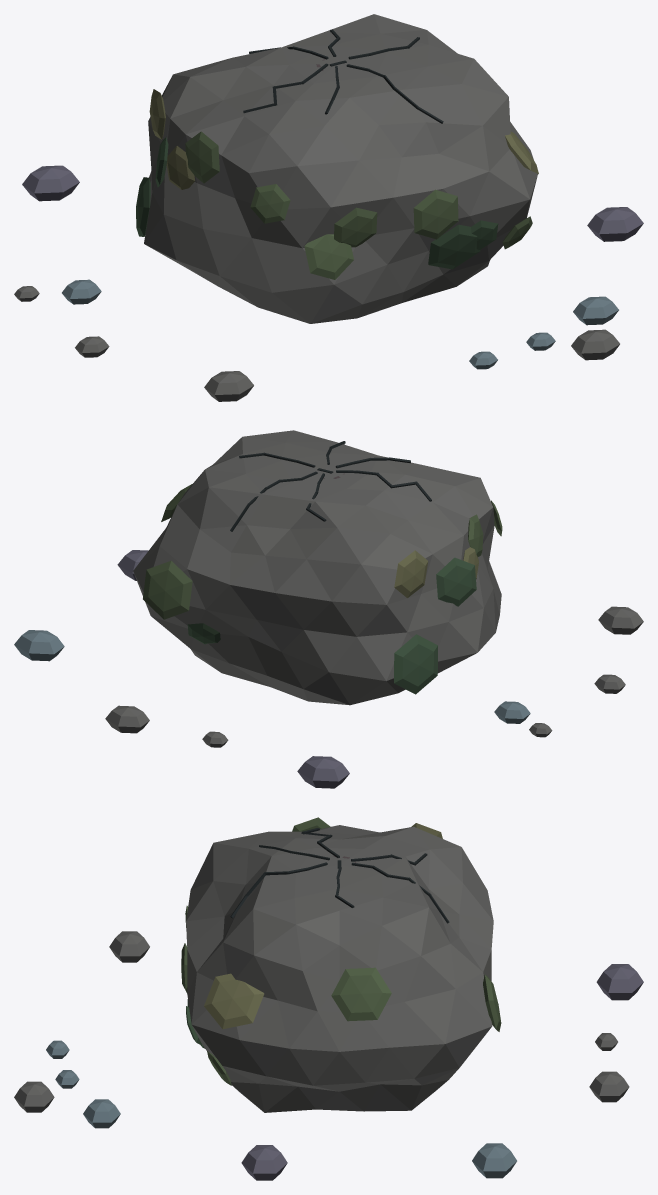
The model's file is piatra_sabie.glb.
3 views of the same model, one above another, from view 1: azimuth 30°, elevation 25°; view 2: azimuth 150°, elevation 25°; view 3: azimuth 270°, elevation 25° (orthographic). The views are drawn at different scales.
Parts seen in each view (by area): view 1: Piatra, Muschi, Crapaturi; view 2: Piatra, Muschi, Crapaturi; view 3: Piatra, Muschi, Crapaturi.
Part boxes in pixels (x1=…): Piatra: x1=14, y1=14, x2=643, y2=401; Muschi: x1=136, y1=89, x2=538, y2=279; Crapaturi: x1=243, y1=29, x2=443, y2=123; Piatra: x1=14, y1=430, x2=643, y2=788; Muschi: x1=143, y1=484, x2=502, y2=694; Crapaturi: x1=230, y1=441, x2=431, y2=531; Piatra: x1=14, y1=825, x2=643, y2=1180; Muschi: x1=181, y1=817, x2=501, y2=1085; Crapaturi: x1=230, y1=828, x2=449, y2=923.
Size of the model in its own units: 2.68 by 0.9649 by 2.71.
